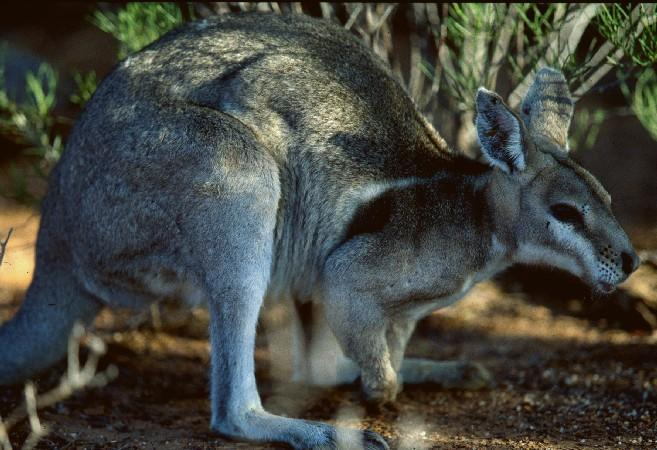Bridled-nail-tail wallaby: (0, 11, 641, 450)
